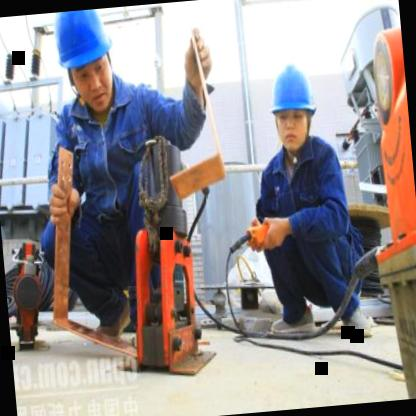helmet: (48, 7, 121, 124), (266, 58, 325, 160)
